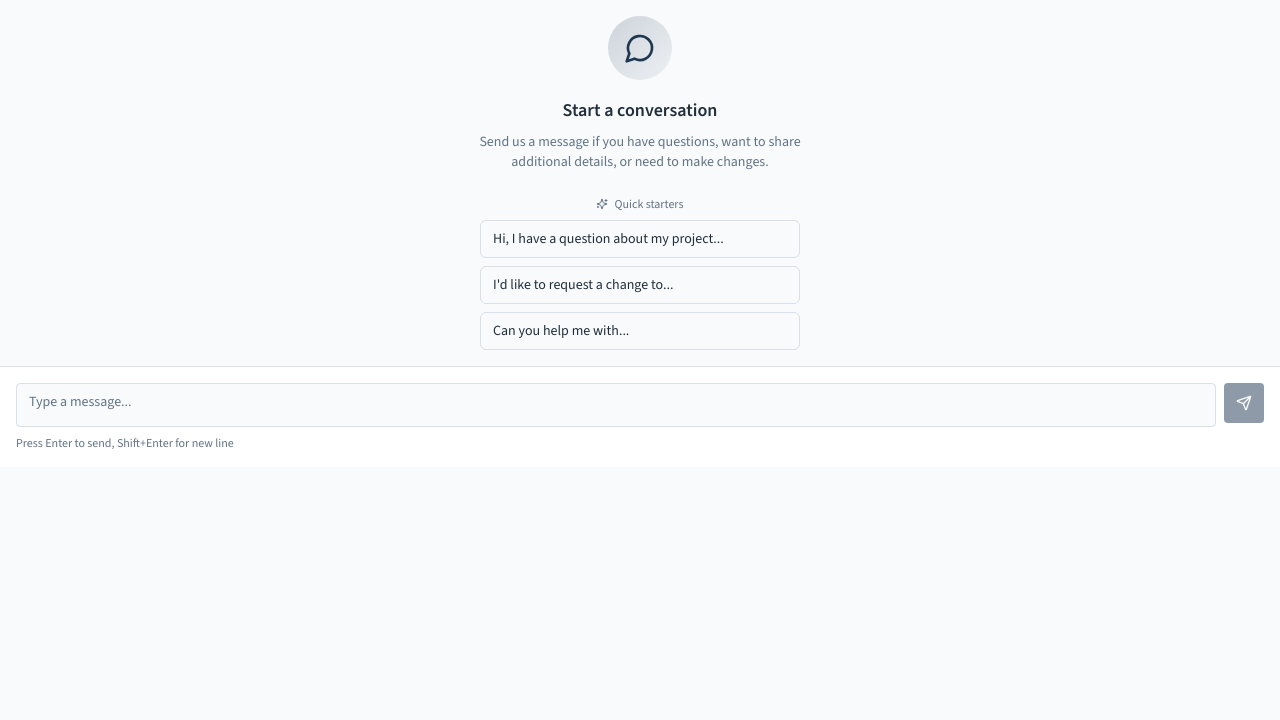
Scenario: MessagesTab auth › shows error when trying to send without a session
This screenshot has width=1280, height=720.
Type "hello" into the text box with placeholder "Type a message..." at coordinates (616, 405), box [16,383,1216,427]
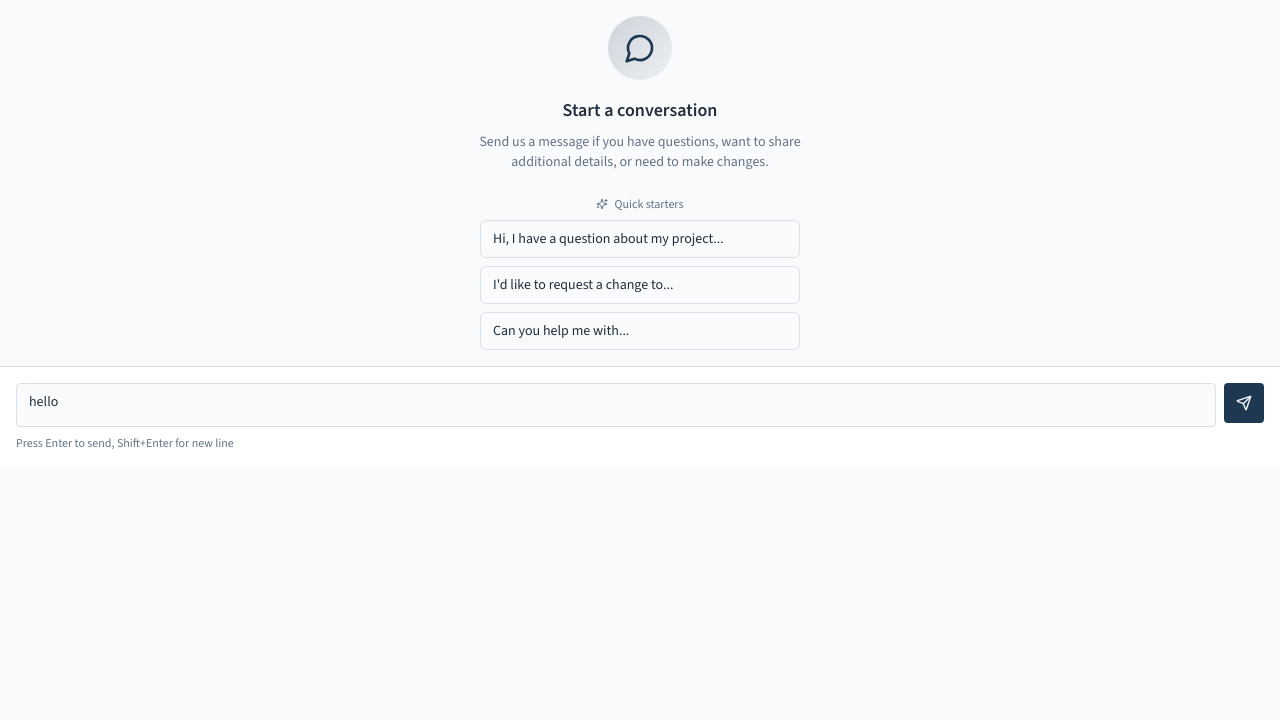
// Use stable aria-label selector
Click the button named "send" at coordinates (1244, 403), box [1224,383,1264,423]
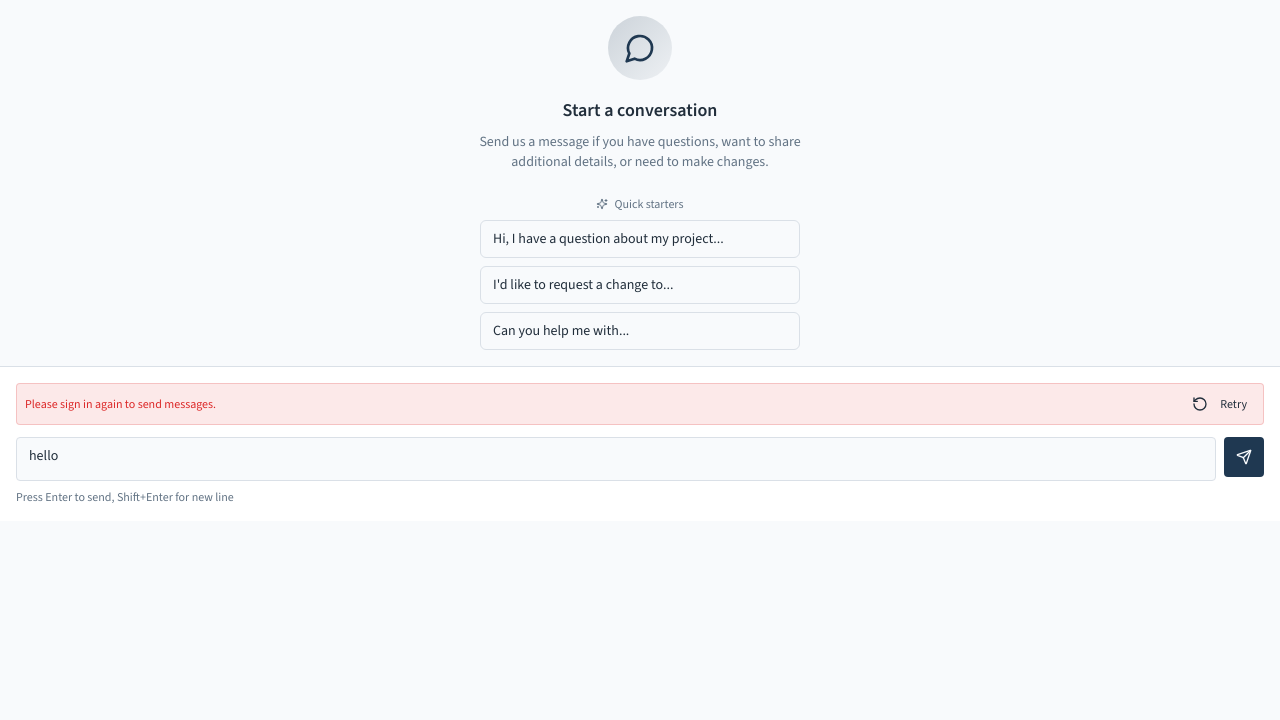
expect the text "Please sign in again to send messages." is shown: met, box [25,396,216,412]
